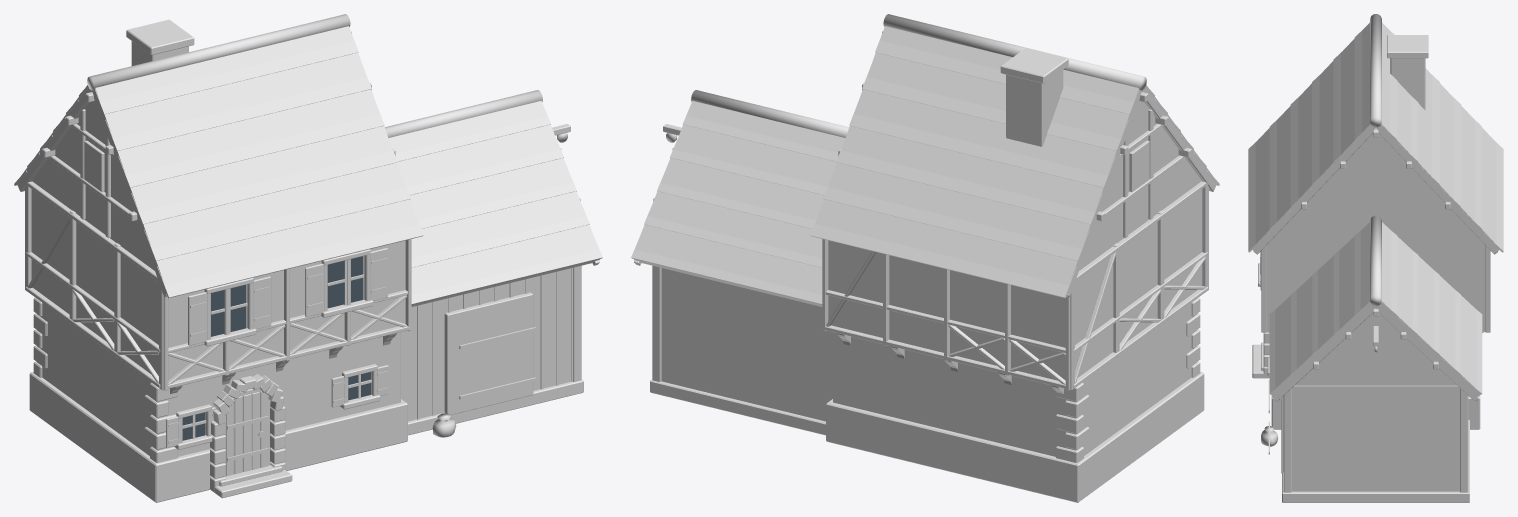
The model's file is col_09_grange_chaume.fbx.
3 views of the same model, side by side, from view 1: azimuth 30°, elevation 25°; view 2: azimuth 150°, elevation 25°; view 3: azimuth 270°, elevation 25° (orthographic). The views are drawn at different scales.
Visible parts, largest first — view 1: col_09_grange_chaume_LOD0; view 2: col_09_grange_chaume_LOD0; view 3: col_09_grange_chaume_LOD0.
Boxes of the visible parts, x1=… form: col_09_grange_chaume_LOD0: x1=14, y1=14, x2=602, y2=502; col_09_grange_chaume_LOD0: x1=631, y1=14, x2=1219, y2=502; col_09_grange_chaume_LOD0: x1=1248, y1=14, x2=1503, y2=502.
Size of what is drawn, in the model's own units: 11.49 by 8.83 by 6.39.
